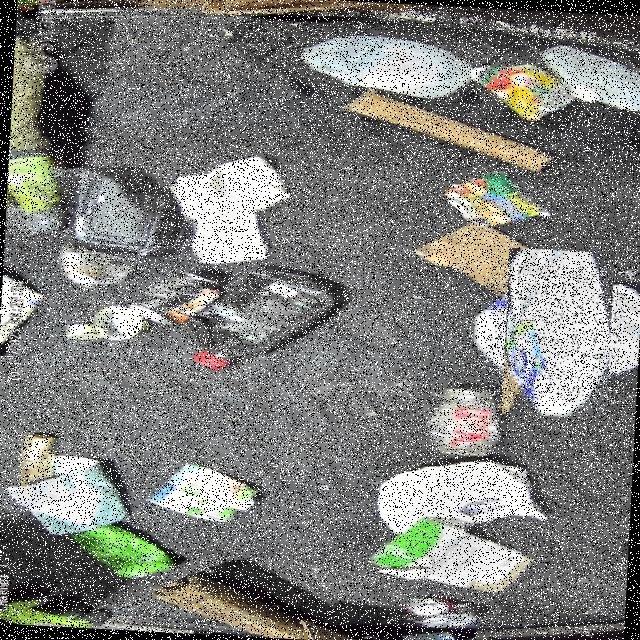milk-jug: (485, 262, 628, 405)
